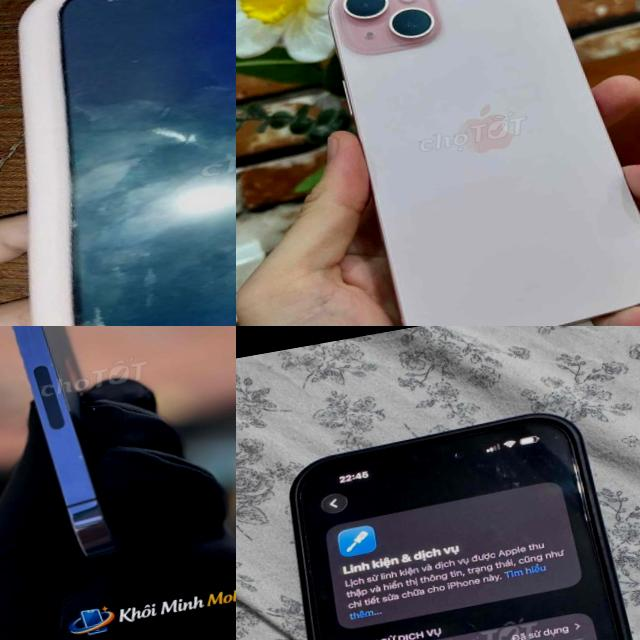gen_12_13: (306, 0, 640, 326)
gen_14: (254, 393, 640, 640), (0, 0, 236, 326), (0, 326, 144, 573)
